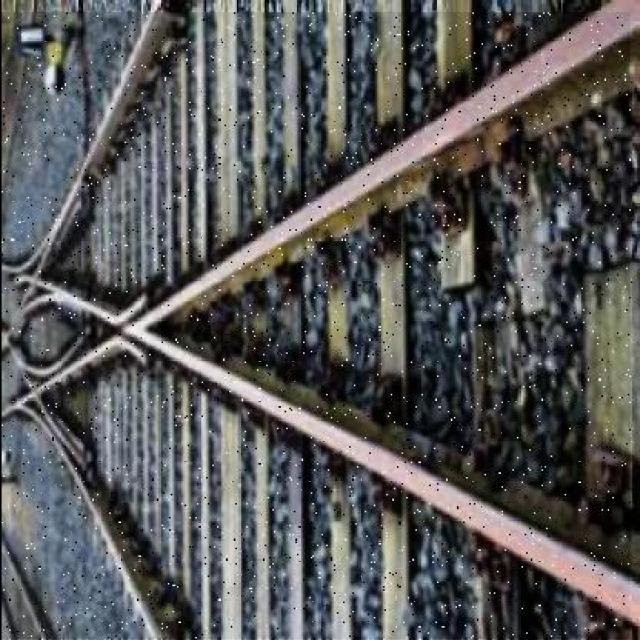rail: (1, 14, 631, 640)
